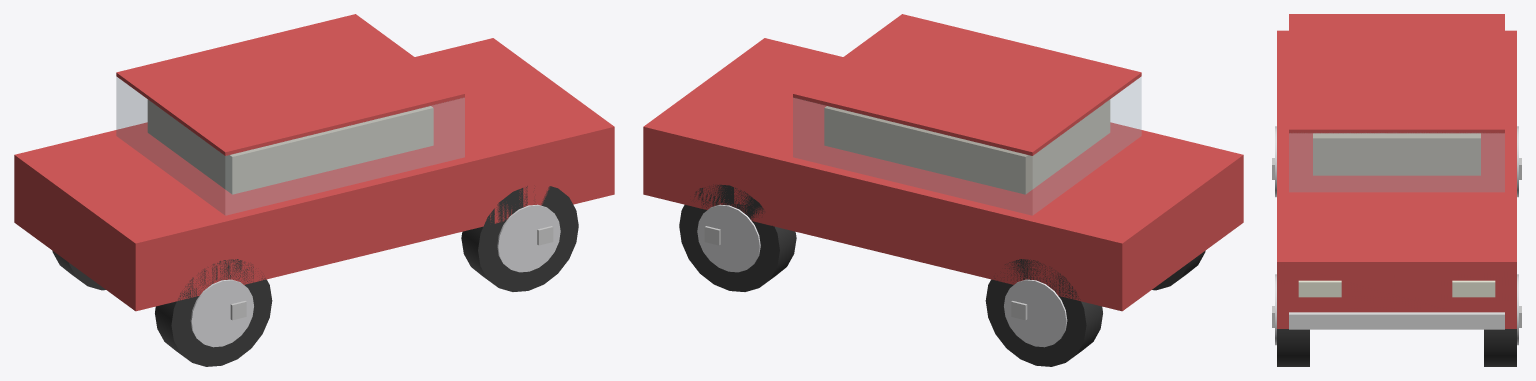
Rendered from de_carModel_aero.glb.
The picture shows the model from 3 angles, left to right: view 1: azimuth 30°, elevation 25°; view 2: azimuth 150°, elevation 25°; view 3: azimuth 270°, elevation 25°; orthographic projection.
Parts seen in each view (by area): view 1: PlaceholderCar; view 2: PlaceholderCar; view 3: PlaceholderCar.
Part boxes in pixels (x1,y1,x2,y2): PlaceholderCar: (14, 14, 614, 366); PlaceholderCar: (643, 14, 1243, 366); PlaceholderCar: (1272, 14, 1521, 366).
Bounding box in the file's own units: 4.03 × 1.64 × 1.82.
